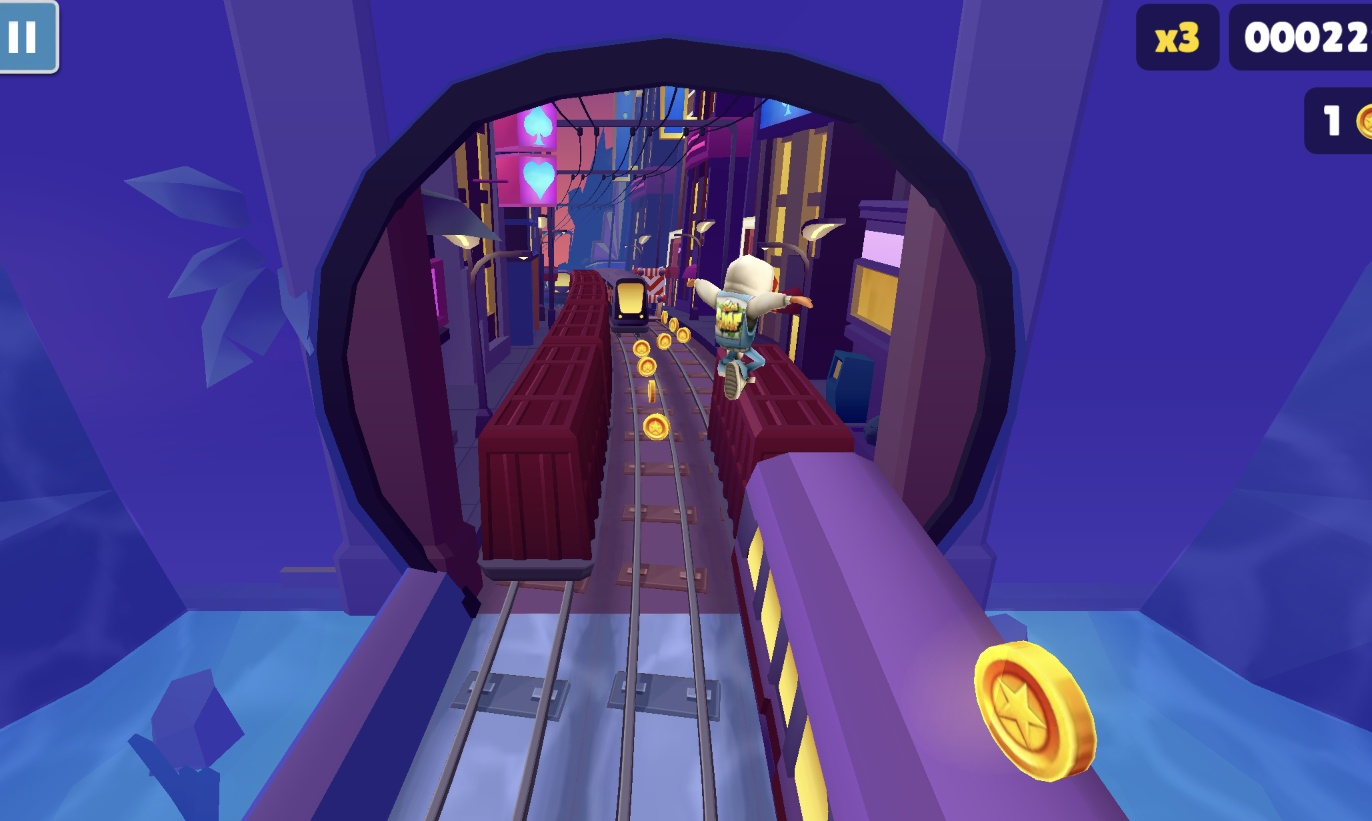overhead_barrier: (638, 269, 670, 327)
train: (709, 346, 1111, 821), (470, 270, 616, 588), (696, 348, 867, 522), (575, 269, 634, 329)
